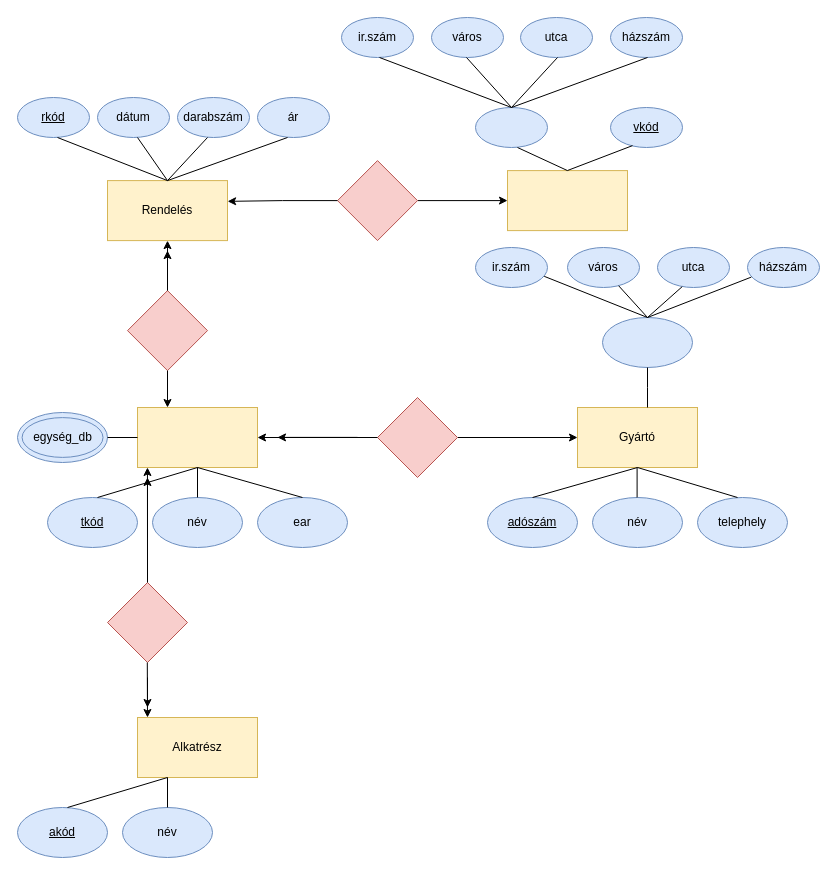
Some shapes in this 837 by 875 pixel diagram are drawn without their labels. The shapes that lost their labels are listed below. From the top down, each one's centre as x and y in pixels, then its label:
At (x=511, y=127): "szállítási cím".
At (x=377, y=200): "R-V".
At (x=567, y=200): "Vevő".
At (x=167, y=330): "R-T".
At (x=647, y=342): "postai cím".
At (x=197, y=437): "Termék".
At (x=417, y=437): "T-GY".
At (x=147, y=622): "T-A".
